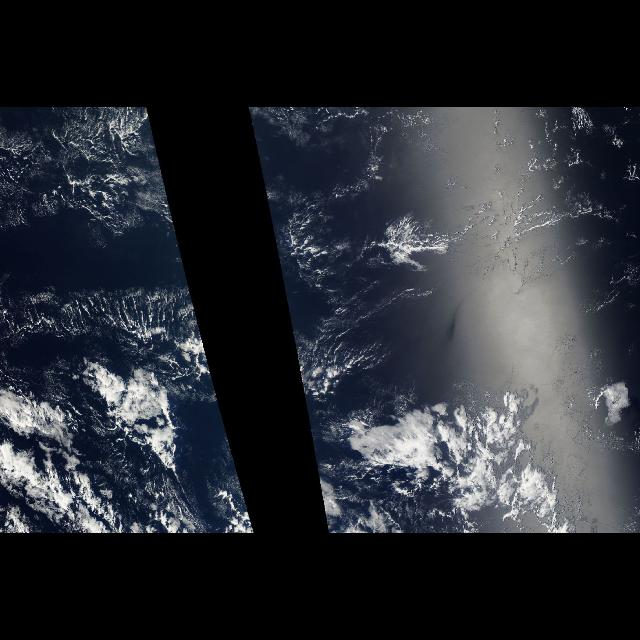Sugar: (248, 110, 640, 400), (0, 109, 212, 375)
